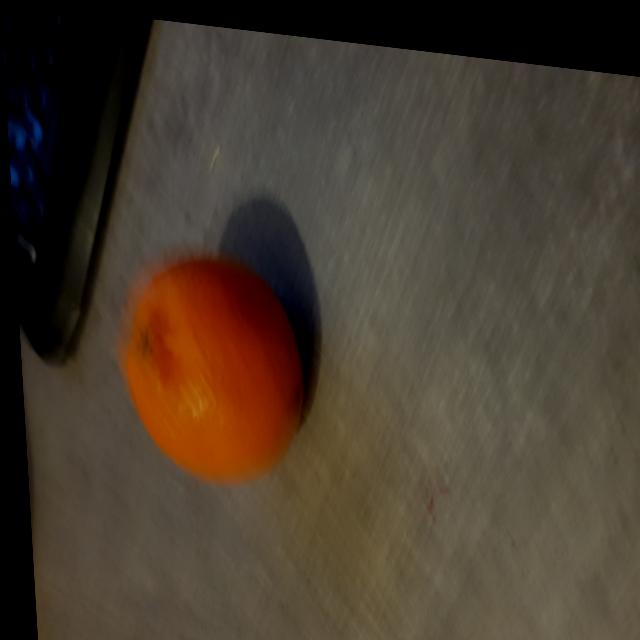Orange: (122, 253, 301, 480)
